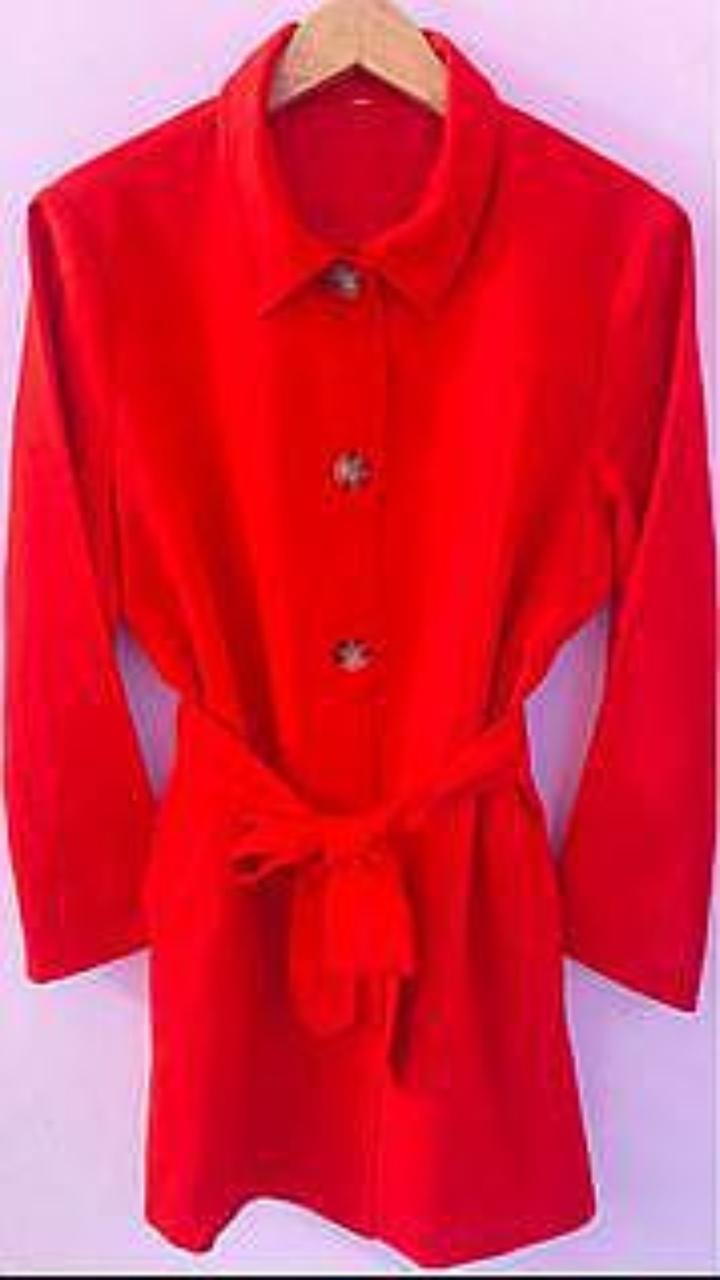Coat: (5, 23, 715, 1264)
